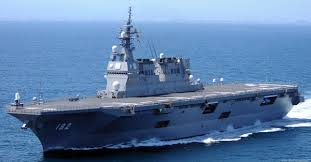tau_muctieu: (11, 36, 301, 140)
